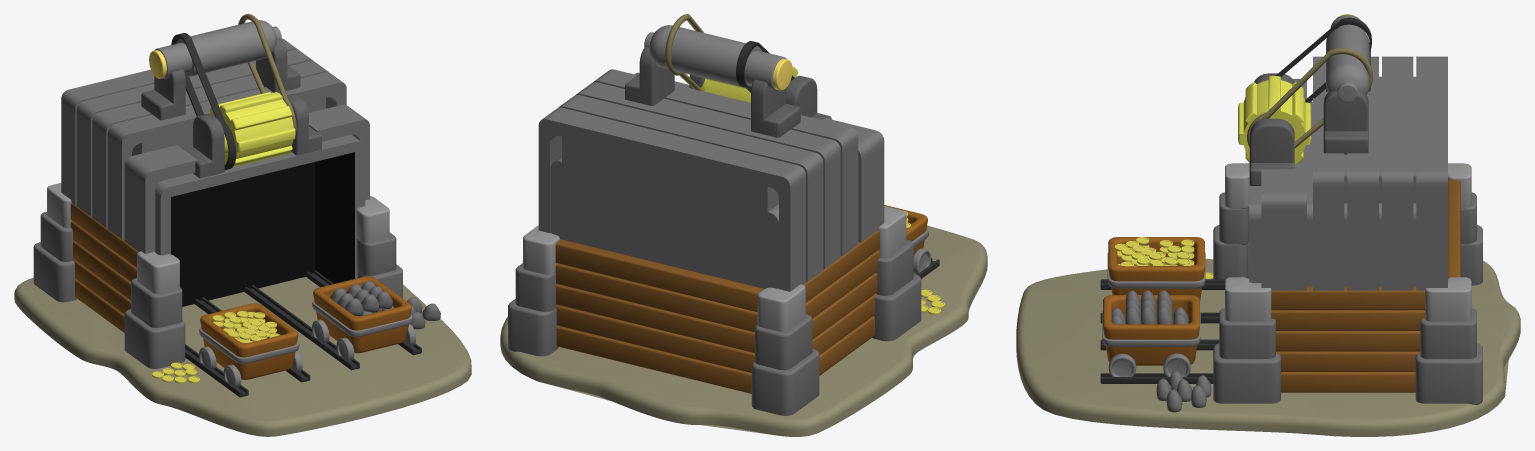
The model's file is mine with base 3.fbx.
The picture shows the model from 3 angles, left to right: view 1: azimuth 30°, elevation 25°; view 2: azimuth 150°, elevation 25°; view 3: azimuth 270°, elevation 25°; orthographic projection. The views are drawn at different scales.
Visible parts, largest first — view 1: Cube.289, Cube.514, Cylinder.086, Cylinder.079, Cylinder.080, Circle.001, Circle.003; view 2: Cube.289, Cylinder.079, Cylinder.086, Circle.003, Cylinder.080, Circle.001; view 3: Cube.289, Cube.514, Cylinder.086, Cylinder.080, Cylinder.079, Circle.003, Circle.001.
Boxes of the visible parts, x1=… form: Cube.289: x1=14, y1=38, x2=471, y2=436; Cube.514: x1=312, y1=276, x2=415, y2=361; Cylinder.086: x1=199, y1=303, x2=302, y2=387; Cylinder.079: x1=149, y1=20, x2=281, y2=78; Cylinder.080: x1=210, y1=92, x2=295, y2=166; Circle.001: x1=171, y1=33, x2=236, y2=170; Circle.003: x1=238, y1=14, x2=296, y2=133; Cube.289: x1=500, y1=47, x2=987, y2=436; Cylinder.079: x1=644, y1=25, x2=792, y2=90; Cylinder.086: x1=884, y1=205, x2=930, y2=274; Circle.003: x1=665, y1=14, x2=703, y2=91; Cylinder.080: x1=701, y1=66, x2=798, y2=102; Circle.001: x1=736, y1=41, x2=794, y2=92; Cube.289: x1=1016, y1=50, x2=1520, y2=436; Cube.514: x1=1102, y1=290, x2=1200, y2=376; Cylinder.086: x1=1107, y1=237, x2=1205, y2=300; Cylinder.080: x1=1238, y1=76, x2=1311, y2=165; Cylinder.079: x1=1326, y1=14, x2=1369, y2=102; Circle.003: x1=1247, y1=48, x2=1372, y2=148; Circle.001: x1=1275, y1=17, x2=1371, y2=102.
Size of the model in its own units: 11768 by 10093 by 14514.
